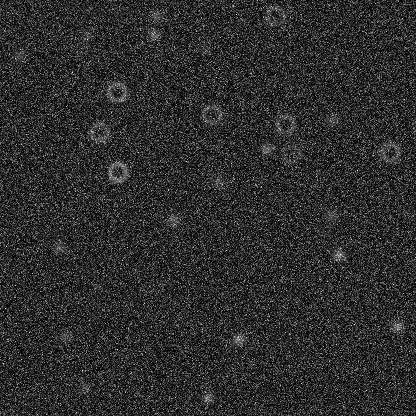Ring: (105, 159, 129, 183), (279, 141, 303, 165), (87, 120, 111, 144), (73, 42, 97, 66), (273, 111, 297, 135), (263, 3, 287, 27), (199, 102, 223, 126), (104, 79, 128, 103), (377, 140, 401, 164)
Spot: (324, 112, 340, 128), (258, 140, 274, 156), (330, 246, 346, 262), (389, 318, 405, 334), (145, 26, 161, 42), (57, 327, 73, 343), (10, 47, 26, 63), (196, 41, 212, 57), (230, 331, 246, 347), (148, 8, 164, 24), (199, 389, 215, 405), (89, 281, 105, 297), (51, 239, 67, 255), (78, 27, 94, 43), (209, 172, 225, 188), (75, 379, 91, 395), (322, 207, 338, 223), (165, 211, 181, 227)
